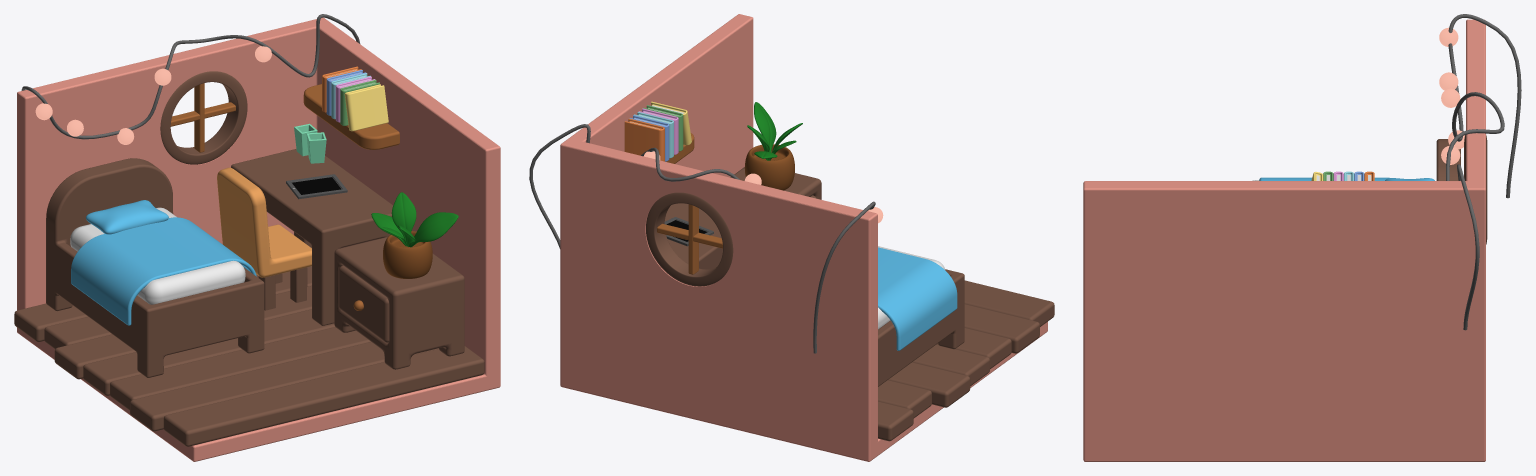
The model's file is home.gltf.
3 views of the same model, side by side, from view 1: azimuth 30°, elevation 25°; view 2: azimuth 150°, elevation 25°; view 3: azimuth 270°, elevation 25° (orthographic). The views are drawn at different scales.
Visible parts, largest first — view 1: Cube, Cube.001, bed, Cube.006, Cube.002, Cube.004, Cube.007, window, Cube.011, Cube.003, BezierCurve, Cube.010 (+10 smaller); view 2: Cube, Cube.001, Cube.004, window, bed, Cube.011, BezierCurve, Circle, Cube.002, Cube.006, Cube.013, Cube.014 (+1 smaller); view 3: Cube, BezierCurve, Icosphere.001, Cube.011, bed.
Part boxes in pixels (x1=…): Cube: x1=17, y1=17, x2=500, y2=461; Cube.001: x1=14, y1=266, x2=484, y2=446; bed: x1=46, y1=158, x2=264, y2=377; Cube.006: x1=334, y1=236, x2=464, y2=369; Cube.002: x1=231, y1=149, x2=393, y2=325; Cube.004: x1=71, y1=217, x2=256, y2=325; Cube.007: x1=217, y1=167, x2=311, y2=277; window: x1=160, y1=71, x2=247, y2=164; Cube.011: x1=322, y1=66, x2=388, y2=131; Cube.003: x1=70, y1=207, x2=245, y2=304; BezierCurve: x1=21, y1=14, x2=360, y2=139; Cube.010: x1=303, y1=84, x2=399, y2=149; Cube: x1=560, y1=14, x2=1047, y2=461; Cube.001: x1=878, y1=280, x2=1054, y2=441; Cube.004: x1=878, y1=247, x2=957, y2=350; window: x1=646, y1=192, x2=733, y2=286; bed: x1=878, y1=269, x2=964, y2=386; Cube.011: x1=624, y1=101, x2=691, y2=161; BezierCurve: x1=529, y1=124, x2=875, y2=353; Circle: x1=744, y1=144, x2=794, y2=190; Cube.002: x1=664, y1=203, x2=722, y2=269; Cube.006: x1=730, y1=167, x2=821, y2=199; Cube.013: x1=688, y1=204, x2=698, y2=274; Cube.014: x1=657, y1=223, x2=722, y2=248; Cube: x1=1083, y1=19, x2=1485, y2=461; BezierCurve: x1=1446, y1=14, x2=1521, y2=330; Icosphere.001: x1=1439, y1=27, x2=1464, y2=164; Cube.011: x1=1311, y1=171, x2=1374, y2=180; bed: x1=1436, y1=139, x2=1460, y2=180.
Size of what is drawn, in the model's own units: 4.7 by 3.18 by 4.35.
